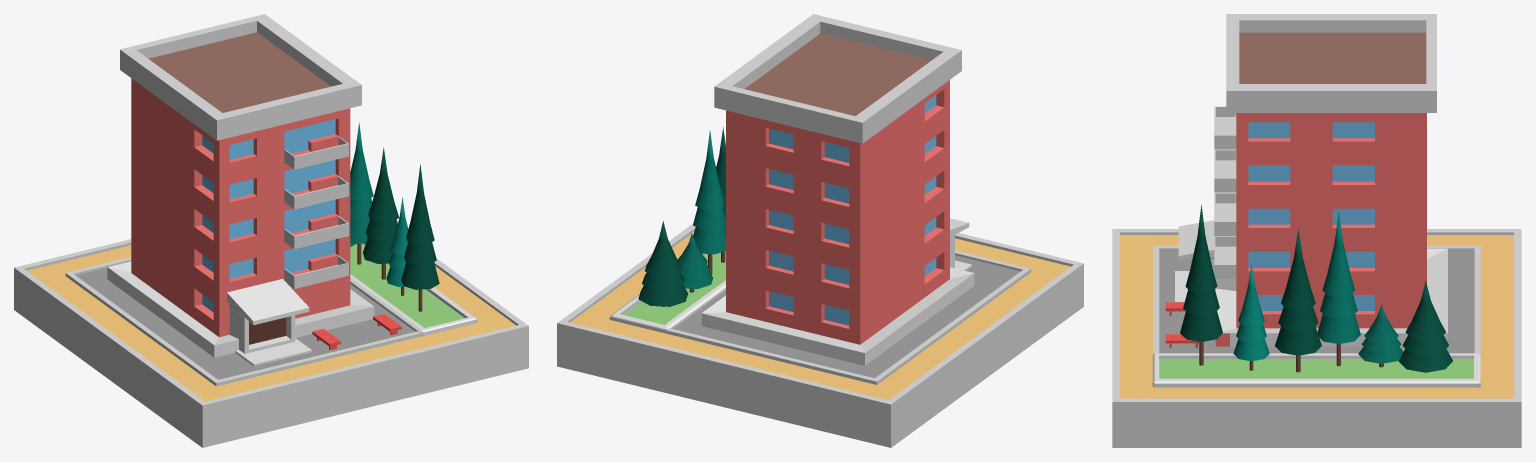
The model's file is house2.fbx.
The picture shows the model from 3 angles, left to right: view 1: azimuth 30°, elevation 25°; view 2: azimuth 150°, elevation 25°; view 3: azimuth 270°, elevation 25°; orthographic projection. The views are drawn at different scales.
Visible parts, largest first — view 1: House_3; view 2: House_3; view 3: House_3.
Boxes of the visible parts, x1,y1,x2,y2 form: House_3: (14,14,528,447); House_3: (557,14,1083,447); House_3: (1112,14,1521,447).
Size of the model in its own units: 200 by 160 by 200.
Materials: 1 (1 with a texture image).
